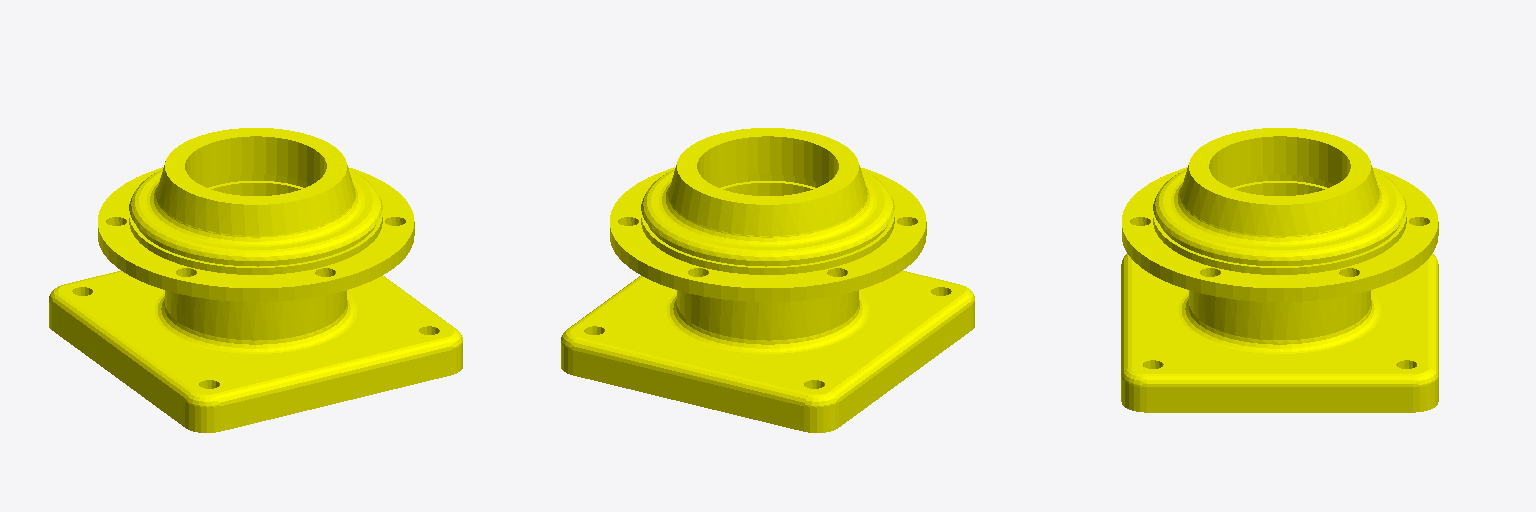
Rendered from nominal.obj.
3 views of the same model, side by side, from view 1: azimuth 30°, elevation 25°; view 2: azimuth 150°, elevation 25°; view 3: azimuth 270°, elevation 25° (orthographic).
Parts seen in each view (by area): view 1: Nominal; view 2: Nominal; view 3: Nominal.
Part boxes in pixels (left/top/right/bottom): Nominal: left=49, top=128, right=462, bottom=432; Nominal: left=561, top=128, right=974, bottom=432; Nominal: left=1121, top=128, right=1438, bottom=412.
Bounding box in the file's own units: 2.5 × 1.56 × 2.5.